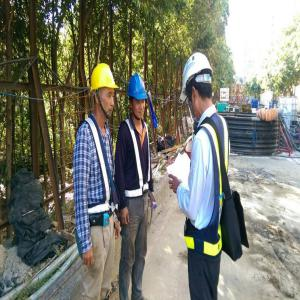blue: (127, 73, 149, 122)
white: (181, 53, 215, 119)
yellow: (90, 60, 118, 122)
